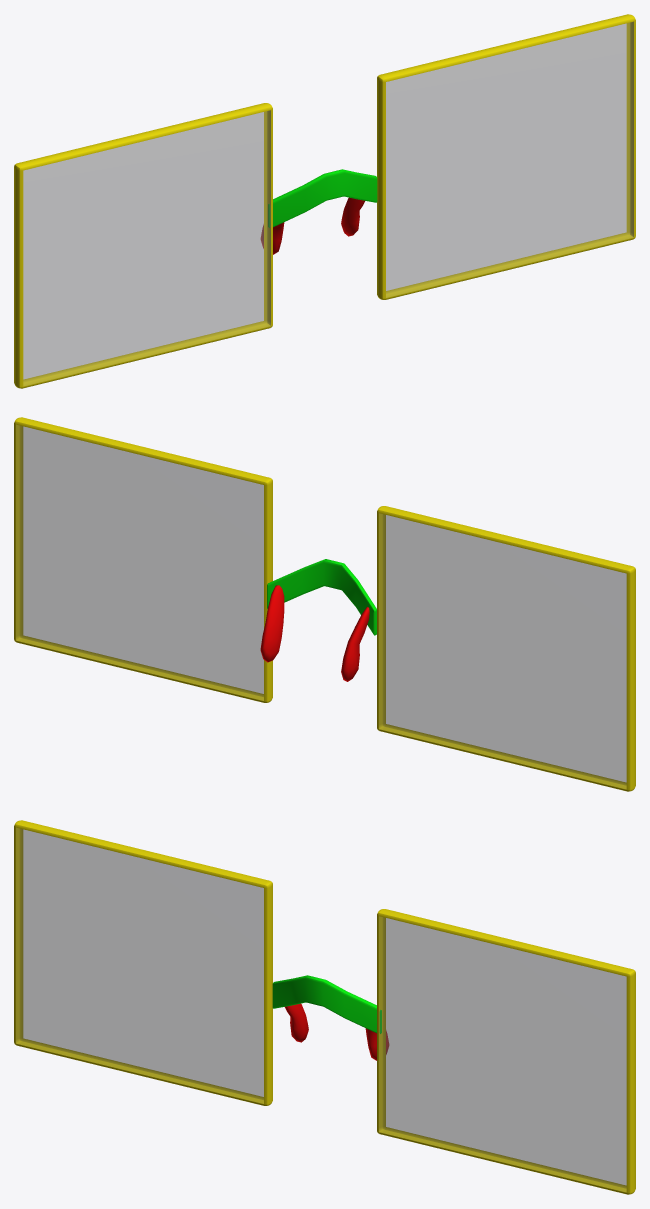
File: square glass.fbx
3 views of the same model, one above another, from view 1: azimuth 30°, elevation 25°; view 2: azimuth 150°, elevation 25°; view 3: azimuth 330°, elevation 25° (orthographic).
Parts seen in each view (by area): view 1: pCube13; view 2: pCube13; view 3: pCube13.
Boxes of the visible parts, x1,y1,x2,y2 form: pCube13: (14,14,635,388); pCube13: (14,417,635,791); pCube13: (14,820,635,1194).
Size of the model in its own units: 527 by 182 by 47.3.
